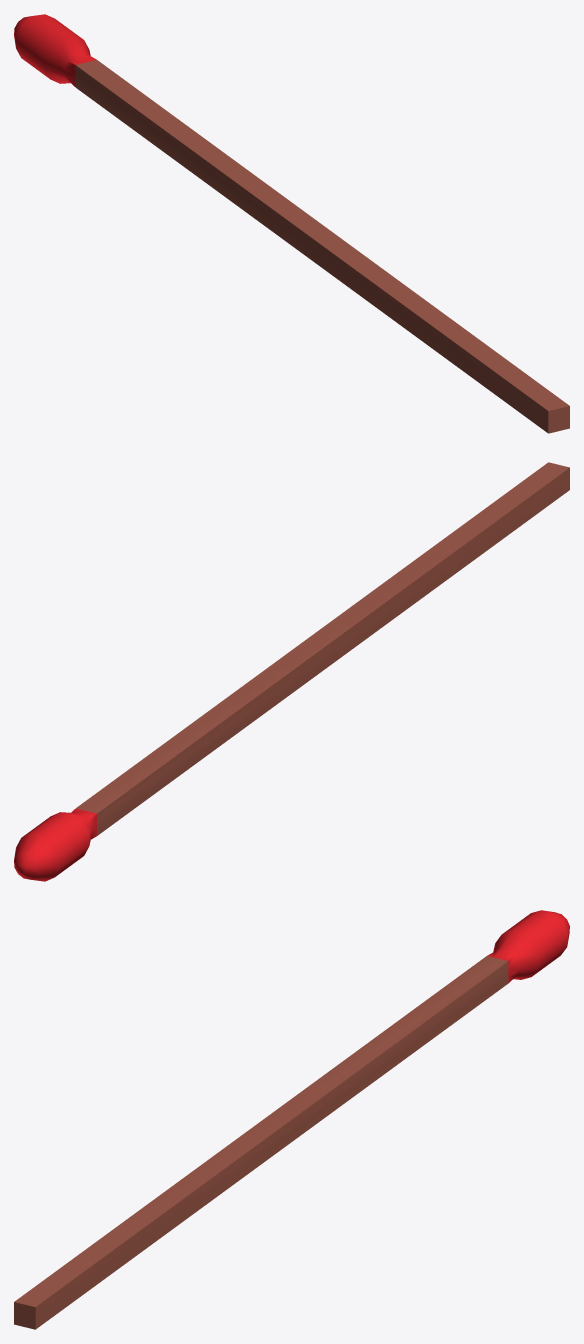
The model's file is match.fbx.
3 views of the same model, one above another, from view 1: azimuth 30°, elevation 25°; view 2: azimuth 150°, elevation 25°; view 3: azimuth 330°, elevation 25° (orthographic).
Parts seen in each view (by area): view 1: Cube; view 2: Cube; view 3: Cube.
Boxes of the visible parts, x1=… form: Cube: x1=14, y1=14, x2=569, y2=433; Cube: x1=14, y1=462, x2=569, y2=881; Cube: x1=14, y1=910, x2=569, y2=1329.
Bounding box in the file's own units: 9.36 × 9.36 × 197.
